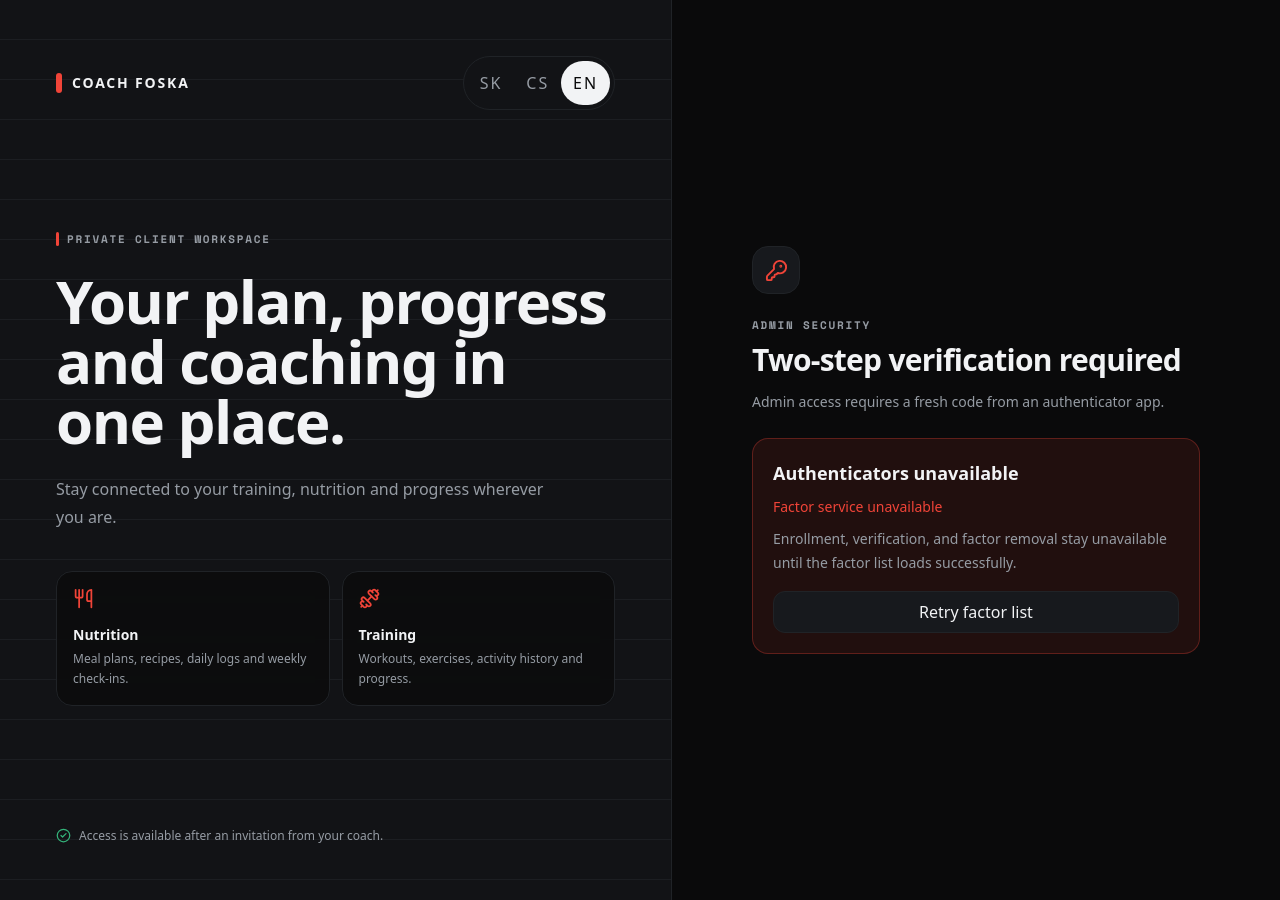
Test: AdminMfa › keeps every factor action unavailable until a failed list request is retried successfully
Expected: the heading "Authenticators unavailable" is shown, [773, 461, 1018, 485]
Expected: the message reads "Factor service unavailable", [773, 497, 942, 516]
What coordinates should you click on to do the following:
click the button "Retry factor list"
I would click on:
 (976, 612)
Its box is [773, 591, 1179, 633].
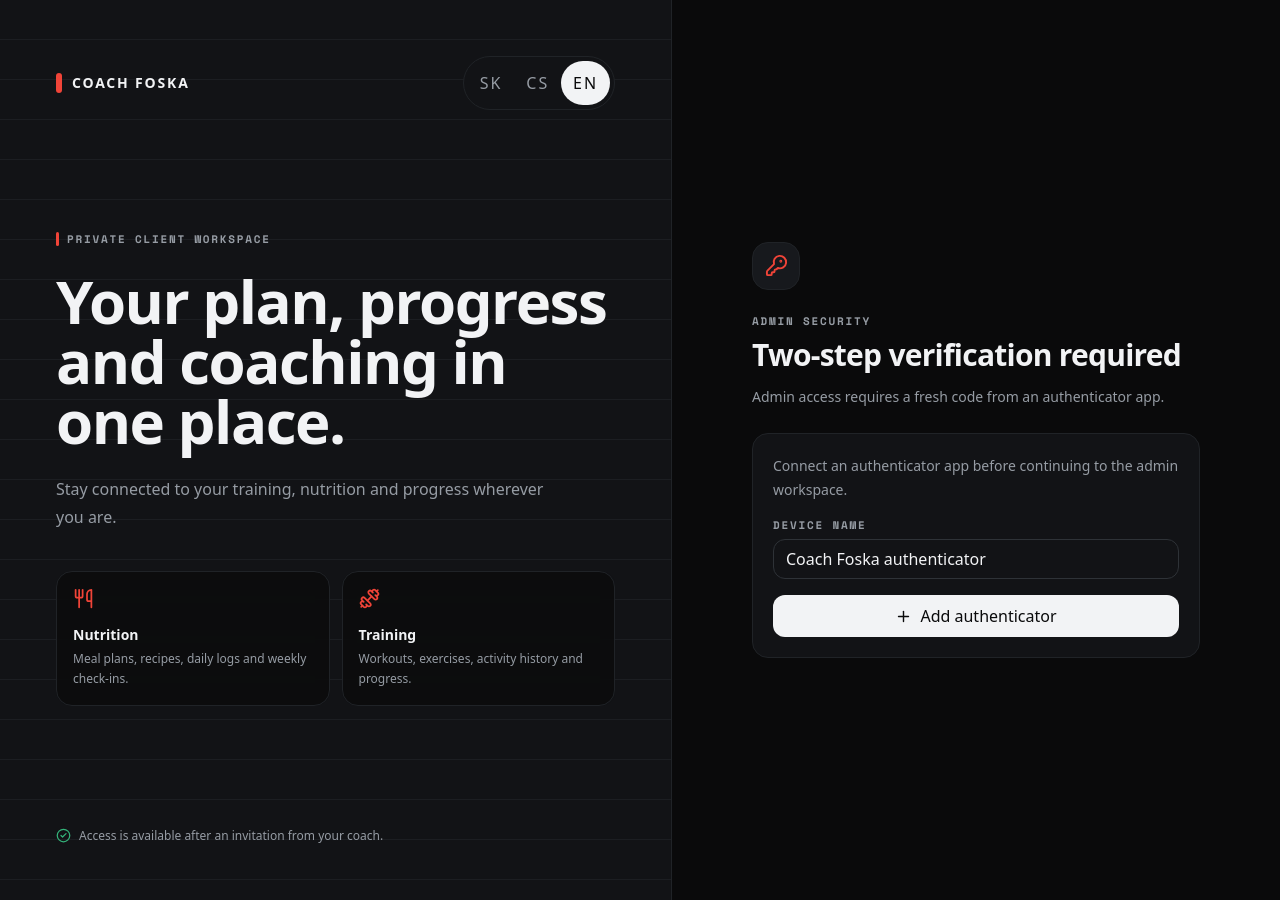
Expected: the button "Add authenticator" is shown, [773, 595, 1179, 637]
